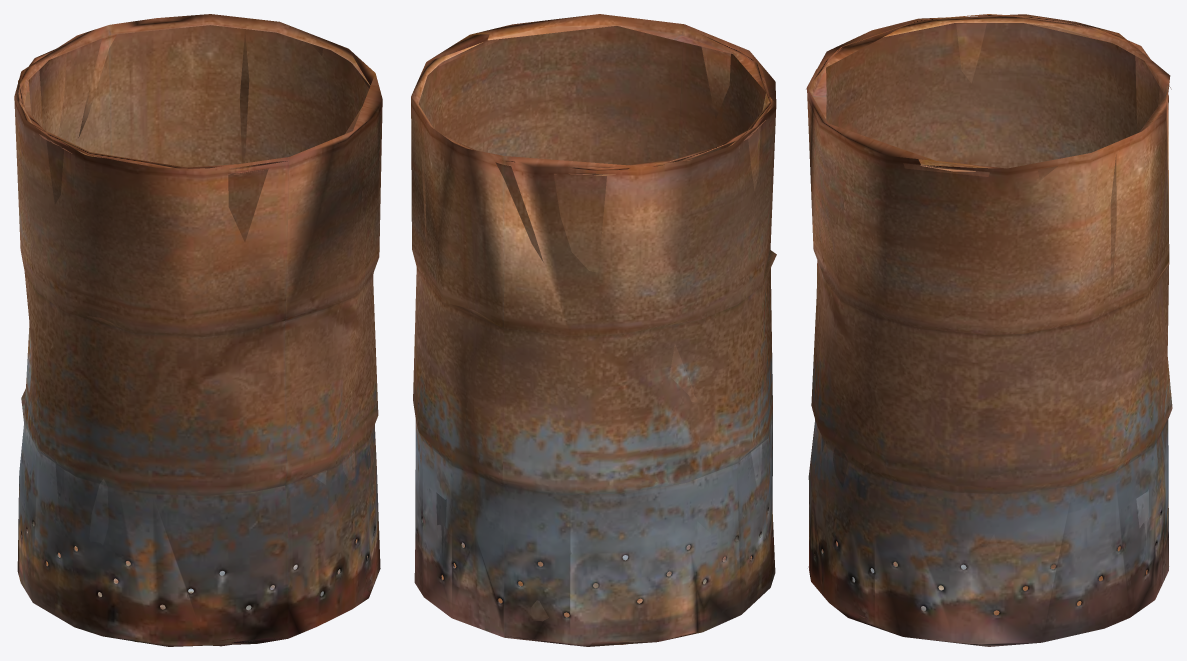
The model's file is drumRust.glb.
3 views of the same model, side by side, from view 1: azimuth 30°, elevation 25°; view 2: azimuth 150°, elevation 25°; view 3: azimuth 270°, elevation 25° (orthographic).
Visible parts, largest first — view 1: barrel_stove; view 2: barrel_stove; view 3: barrel_stove.
Part boxes in pixels (bbox=[...]): barrel_stove: bbox=[14, 14, 382, 646]; barrel_stove: bbox=[411, 14, 776, 646]; barrel_stove: bbox=[806, 14, 1172, 646].
Size of the model in its own units: 0.5865 by 0.8556 by 0.5887.
Materials: 1 (1 with a texture image).
